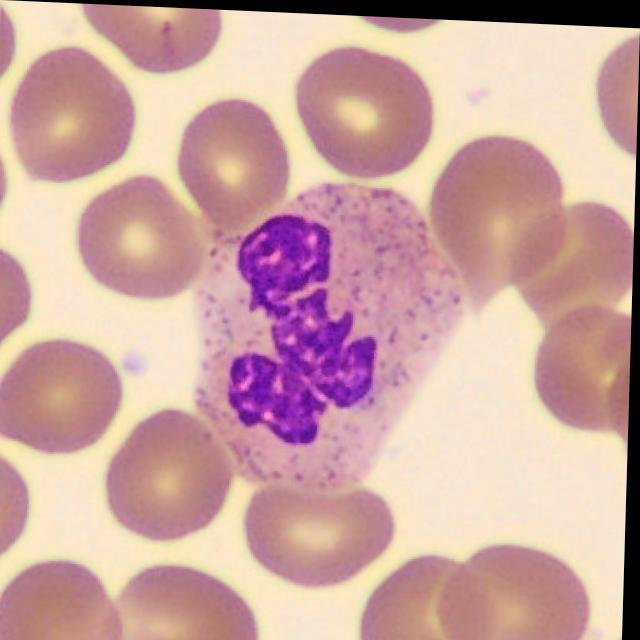Neutrofilo segmentado: (197, 177, 469, 489)
